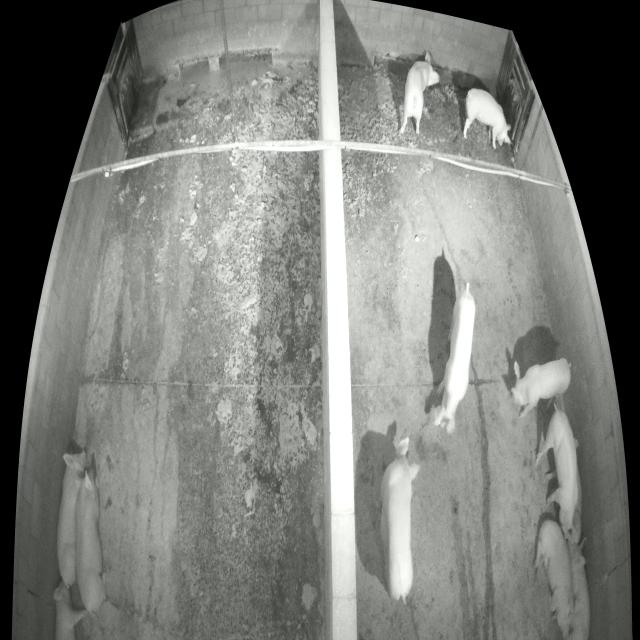pig: (374, 436, 421, 604), (530, 519, 582, 637), (433, 291, 475, 437), (536, 409, 578, 536), (75, 466, 107, 614), (56, 449, 88, 588), (508, 358, 571, 419), (398, 53, 440, 137), (463, 89, 510, 151), (568, 535, 590, 639), (54, 579, 88, 640)
